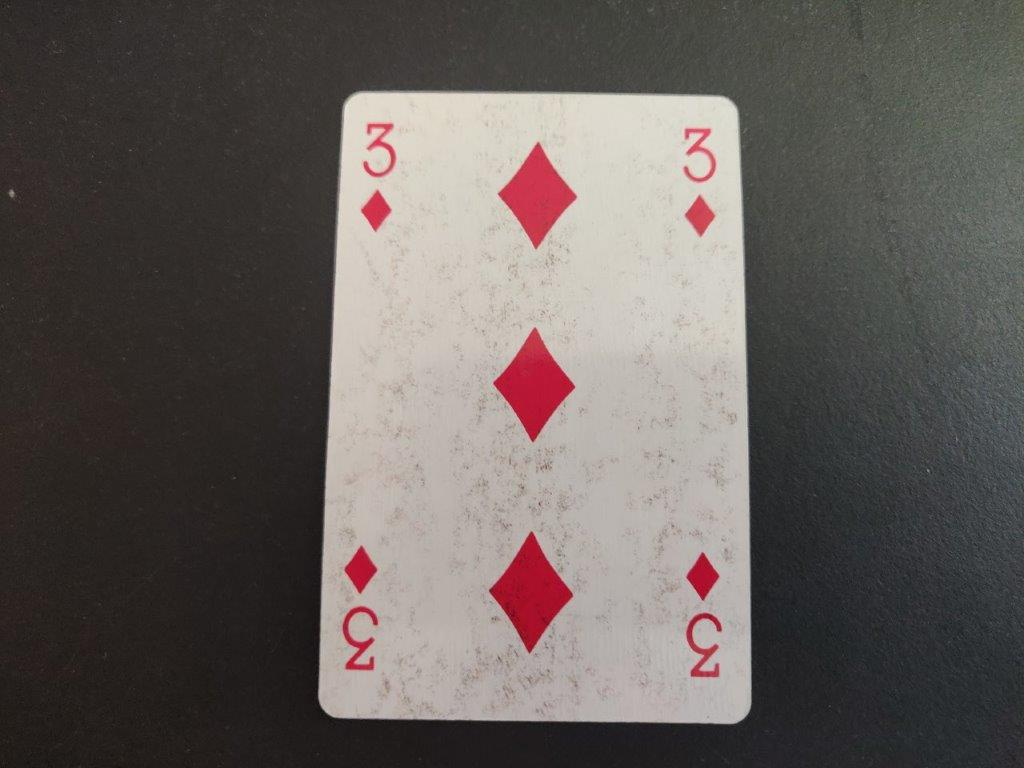3D: (677, 124, 722, 240), (358, 118, 400, 237)
